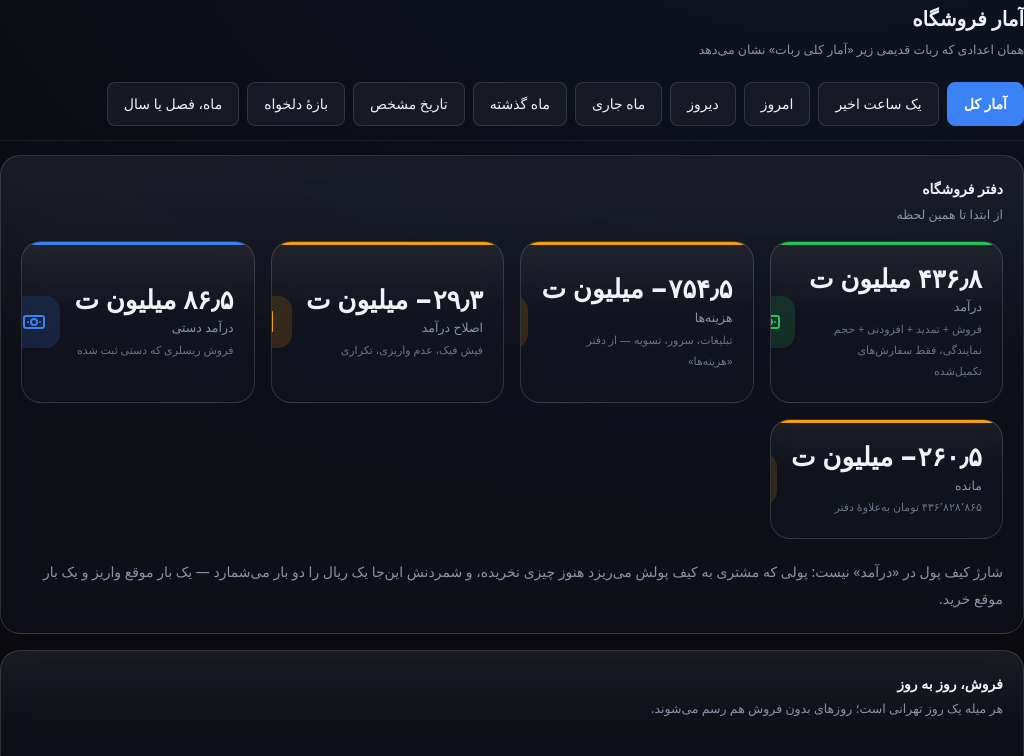
Test: the seven windows › shows a Jalali date picker only for «تاریخ مشخص», never a Gregorian one
Click the button "تاریخ مشخص": (409, 104) [353, 82, 465, 126]
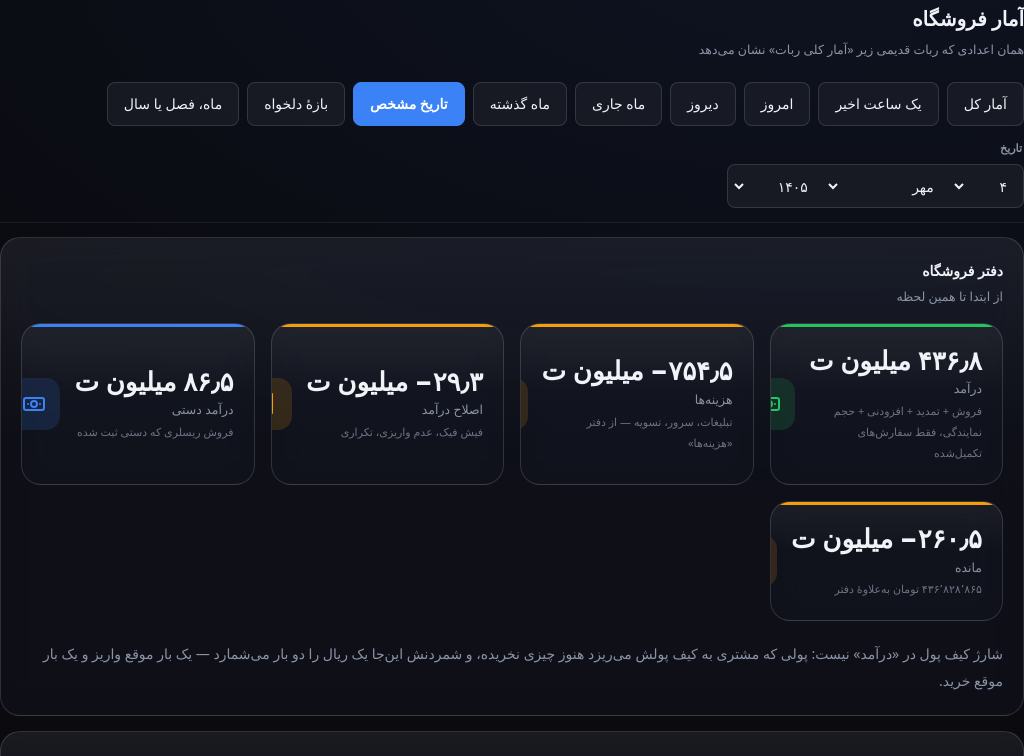
Result: the dropdown named "ماه تاریخ" is shown at [826, 169, 946, 203]
